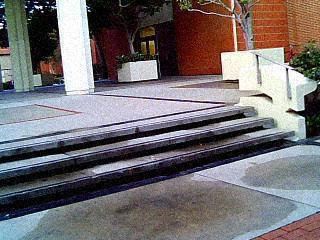Escaleras: (0, 104, 287, 207)
